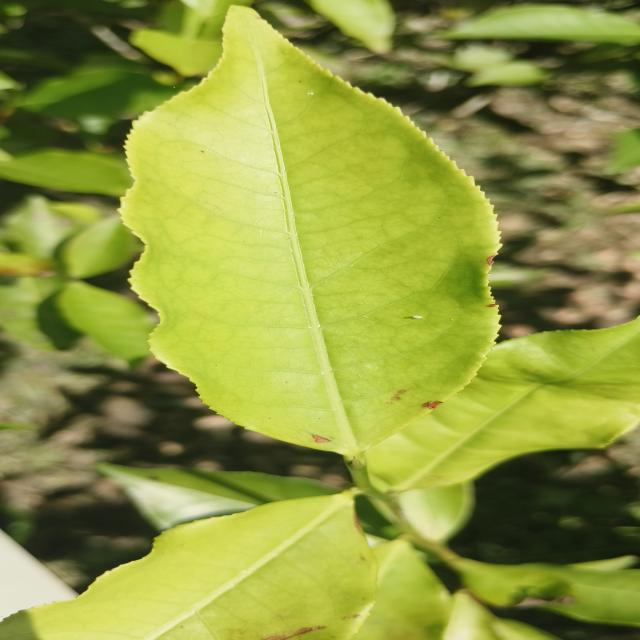Leaf: (122, 7, 497, 457), (0, 493, 376, 640), (366, 319, 640, 492), (98, 463, 339, 531), (437, 4, 640, 45), (55, 281, 154, 364), (21, 67, 175, 119), (0, 149, 132, 197), (0, 276, 82, 350), (541, 565, 640, 626), (5, 195, 82, 258), (63, 216, 139, 279), (132, 29, 222, 77)
